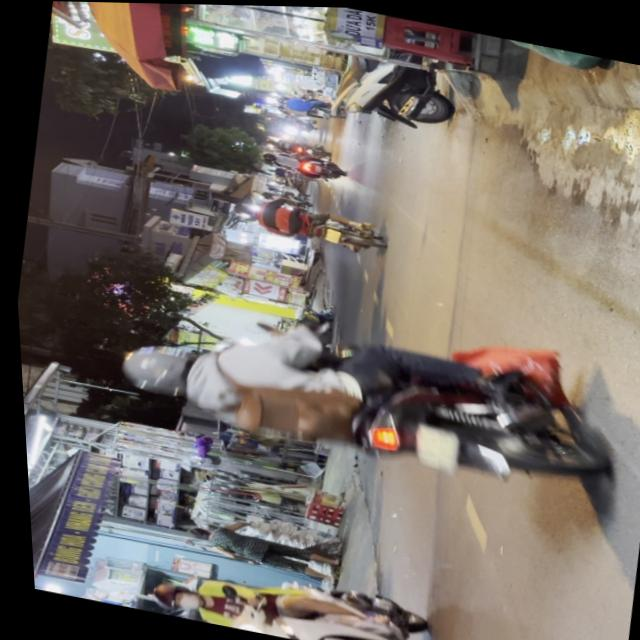helmet: (108, 338, 196, 402), (138, 579, 194, 615)
licenseplate: (95, 266, 628, 510), (132, 547, 446, 640)
nohelmet: (403, 423, 453, 472)
